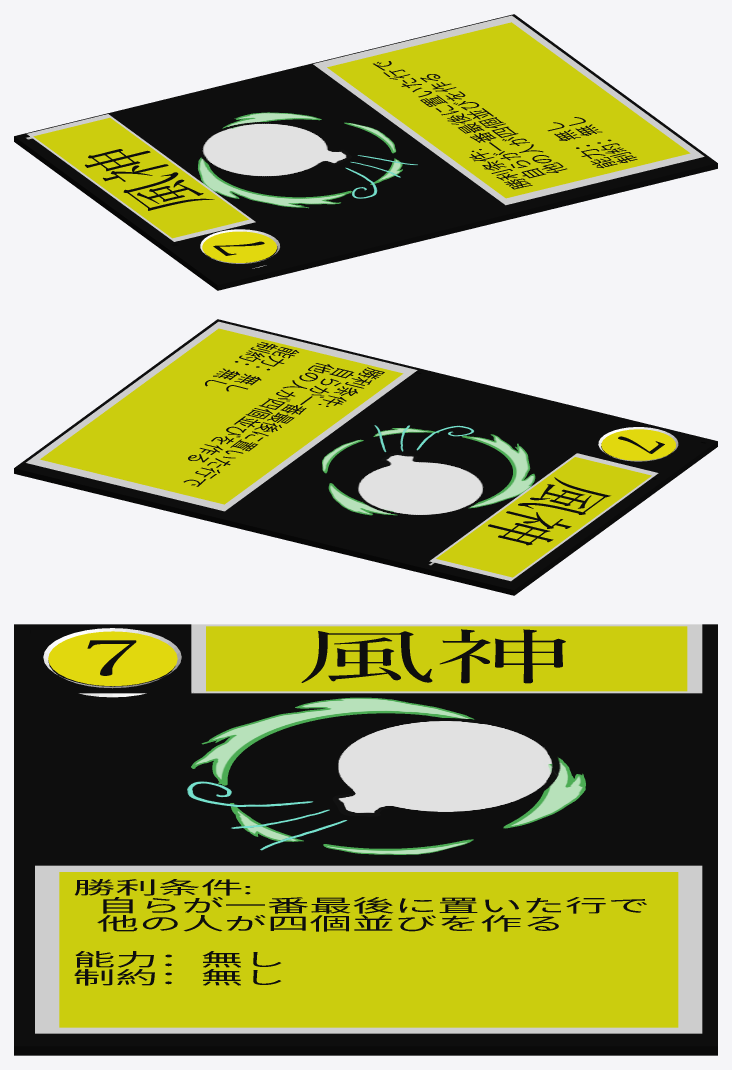
Rendered from 風神黒.fbx.
3 views of the same model, one above another, from view 1: azimuth 30°, elevation 25°; view 2: azimuth 150°, elevation 25°; view 3: azimuth 270°, elevation 25° (orthographic). The views are drawn at different scales.
Parts seen in each view (by area): view 1: カード本体.001, 説明欄, 名前欄, 平面.001, 説明文, 円, 平面, 名前; view 2: カード本体.001, 説明欄, 名前欄, 平面.001, 説明文, 円, 平面, 名前; view 3: カード本体.001, 説明欄, 名前欄, 平面.001, 説明文, 円, 平面, 名前, コスト蘭.
Boxes of the visible parts, x1,y1,x2,y2 form: カード本体.001: (14,14,717,290); 説明欄: (313,15,704,205); 名前欄: (27,114,255,241); 平面.001: (198,112,418,208); 説明文: (373,61,637,189); 円: (202,231,276,262); 平面: (174,222,302,275); 名前: (85,149,214,210); カード本体.001: (14,319,717,595); 説明欄: (26,321,417,511); 名前欄: (429,453,658,581); 平面.001: (322,425,535,516); 説明文: (183,342,384,486); 円: (601,429,675,460); 平面: (577,419,704,472); 名前: (488,477,610,545); カード本体.001: (14,624,717,1055); 説明欄: (35,865,702,1033); 名前欄: (191,624,702,693); 平面.001: (187,697,585,854); 説明文: (74,879,646,985); 円: (48,631,177,686); 平面: (30,624,191,693); 名前: (301,629,565,683); コスト蘭: (43,628,181,697).
Size of the model in its own units: 281 by 6.07 by 198.
